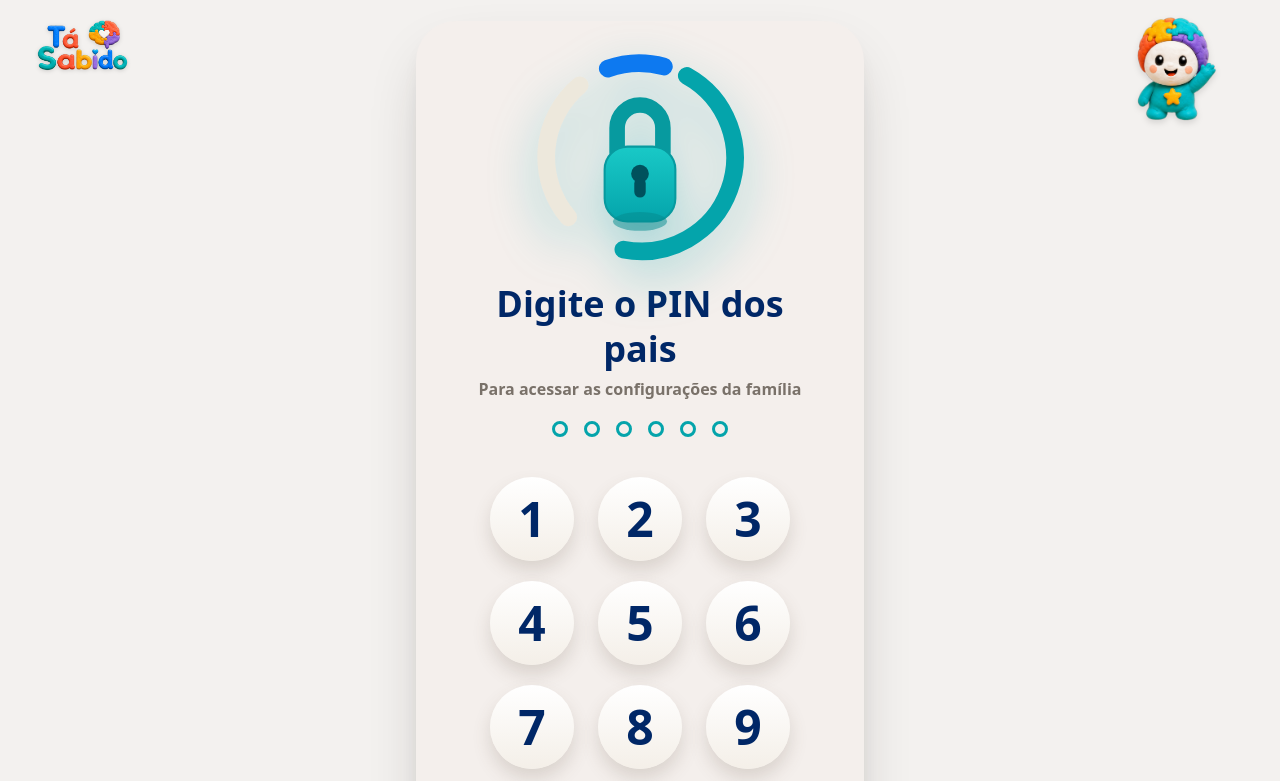
Test: PinScreen › permite apagar dígitos com o backspace
What coordinates should you click on to do the following:
click the button named "Dígito 1"
I would click on:
 (532, 519)
Its box is [490, 477, 574, 561].
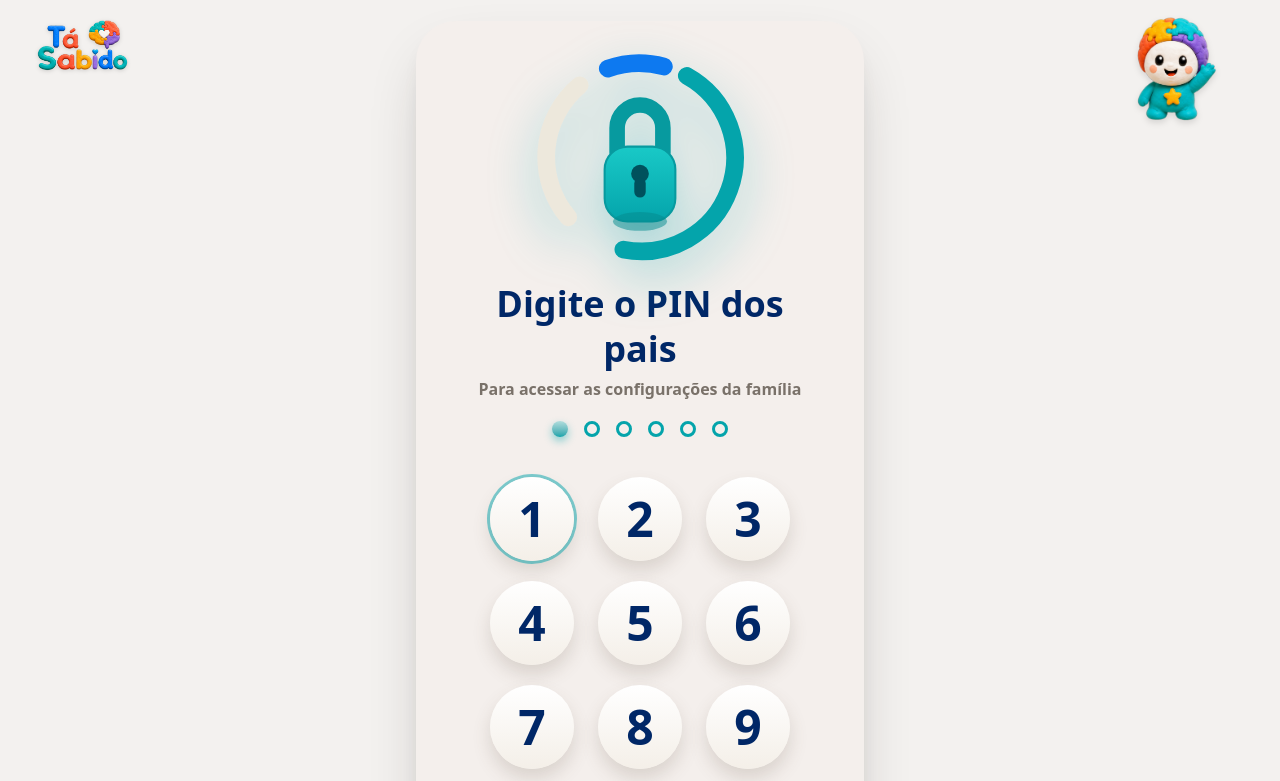
What coordinates should you click on to do the following:
click the button named "Dígito 2"
I would click on:
 (640, 519)
Its box is [598, 477, 682, 561].
(page scrolled)
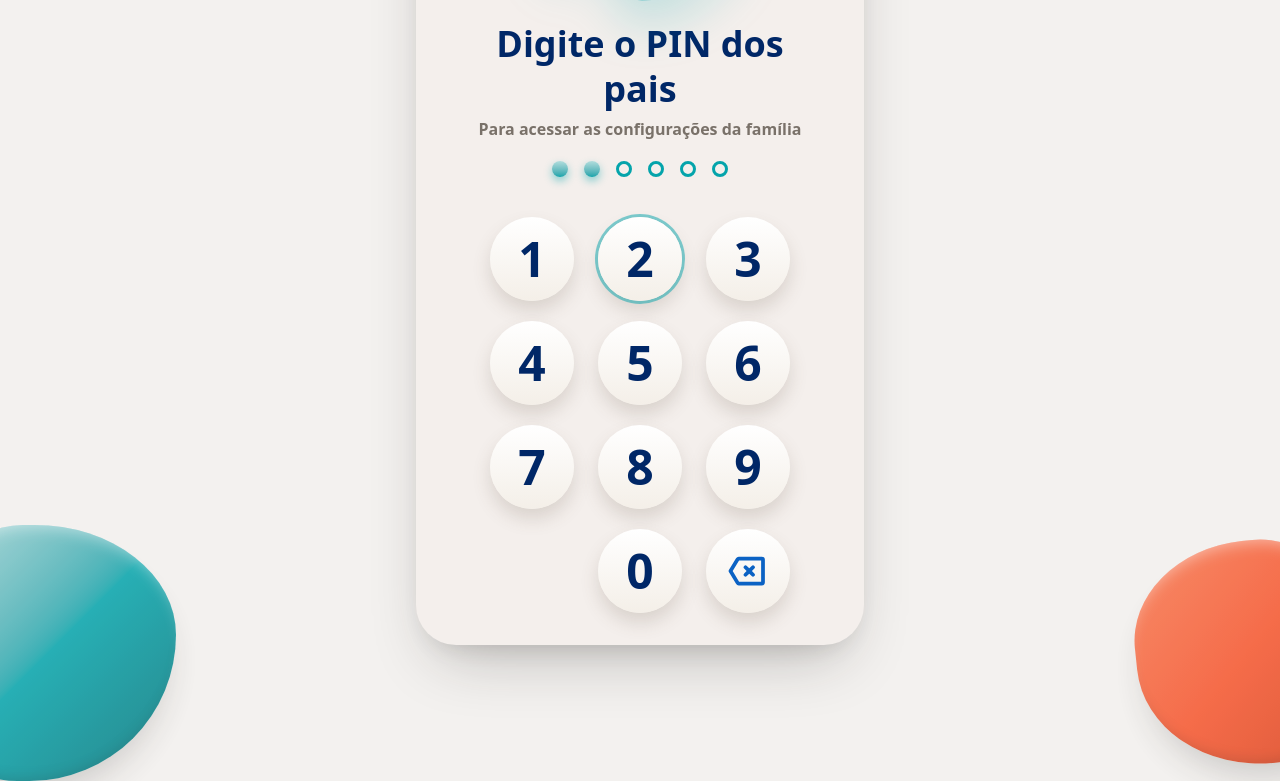
expect the picture named "2 de 6 dígitos digitados" is shown: met, box [552, 161, 728, 177]
What coordinates should you click on to do the following:
click the button named "Apagar último dígito"
I would click on:
 (748, 571)
Its box is [706, 529, 790, 613].
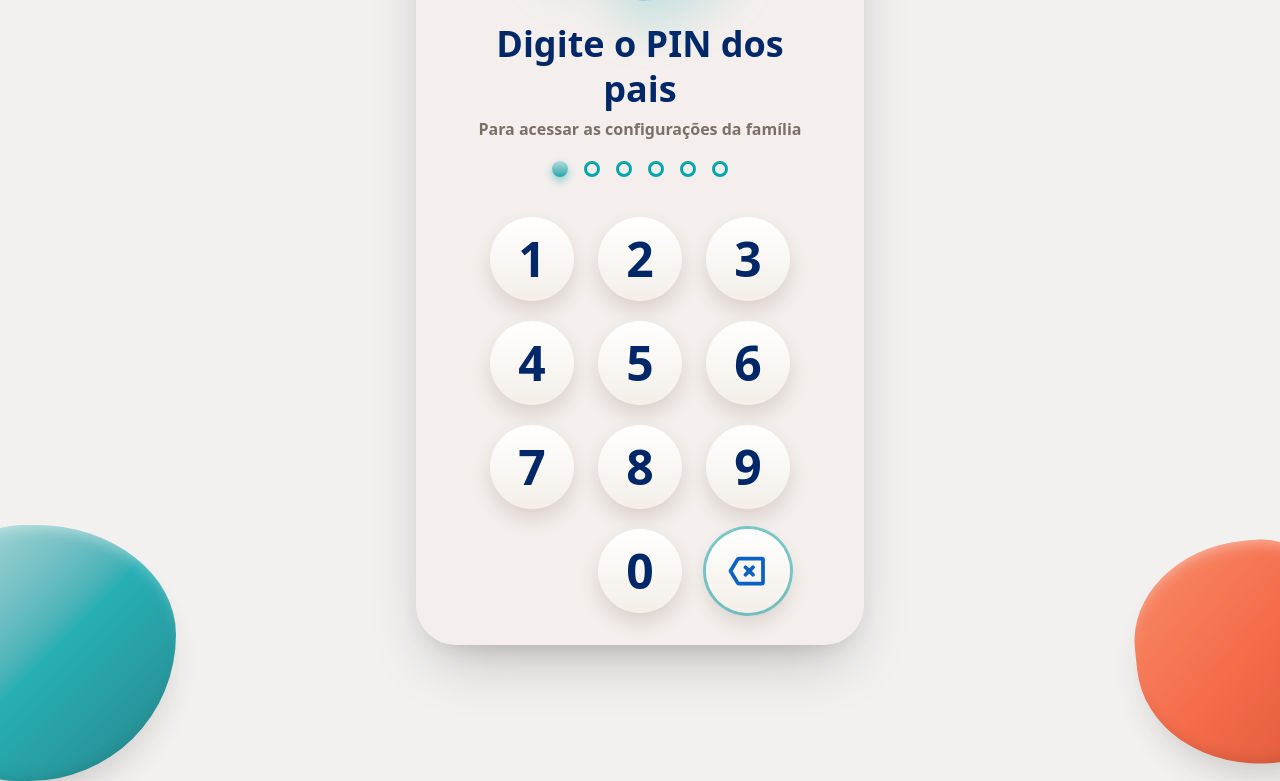
expect the picture named "1 de 6 dígitos digitados" is shown: met, box [552, 161, 728, 177]
